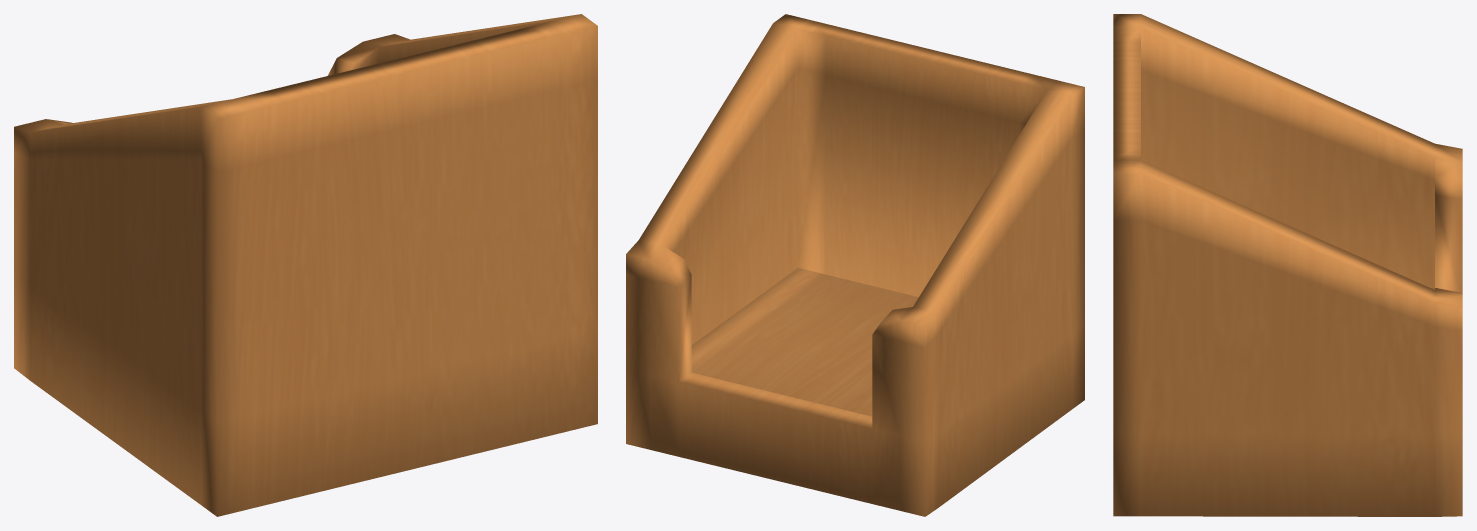
Rendered from Napkin_Holder_MDL.fbx.
The picture shows the model from 3 angles, left to right: view 1: azimuth 30°, elevation 25°; view 2: azimuth 150°, elevation 25°; view 3: azimuth 270°, elevation 25°; orthographic projection. The views are drawn at different scales.
Parts seen in each view (by area): view 1: napkin_holder; view 2: napkin_holder; view 3: napkin_holder.
Part boxes in pixels (bbox=[...]): napkin_holder: bbox=[14, 14, 597, 516]; napkin_holder: bbox=[626, 14, 1084, 516]; napkin_holder: bbox=[1113, 14, 1462, 516].
Bounding box in the file's own units: 15.08 × 15.1 × 13.94.
